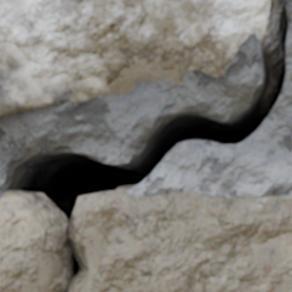brick: (0, 0, 270, 116)
broken_brick: (76, 191, 291, 291), (0, 198, 56, 291)
crack: (0, 0, 291, 291)
